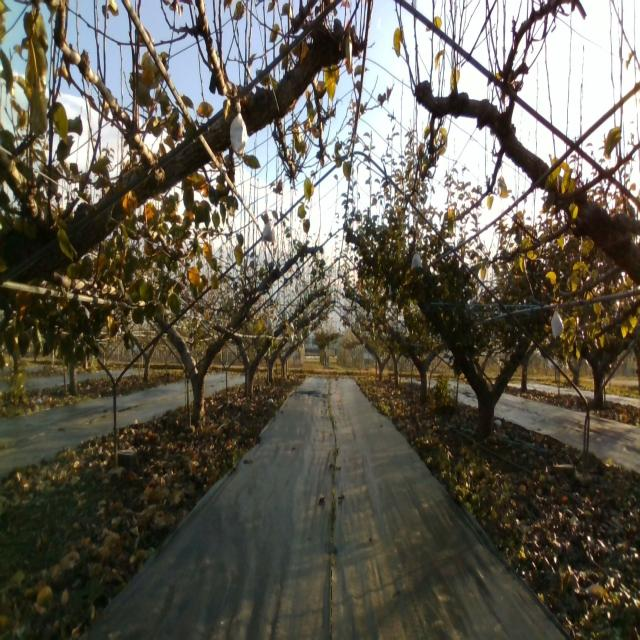pearbags: (228, 101, 248, 161), (262, 218, 277, 244), (551, 308, 563, 340), (410, 252, 423, 272)
